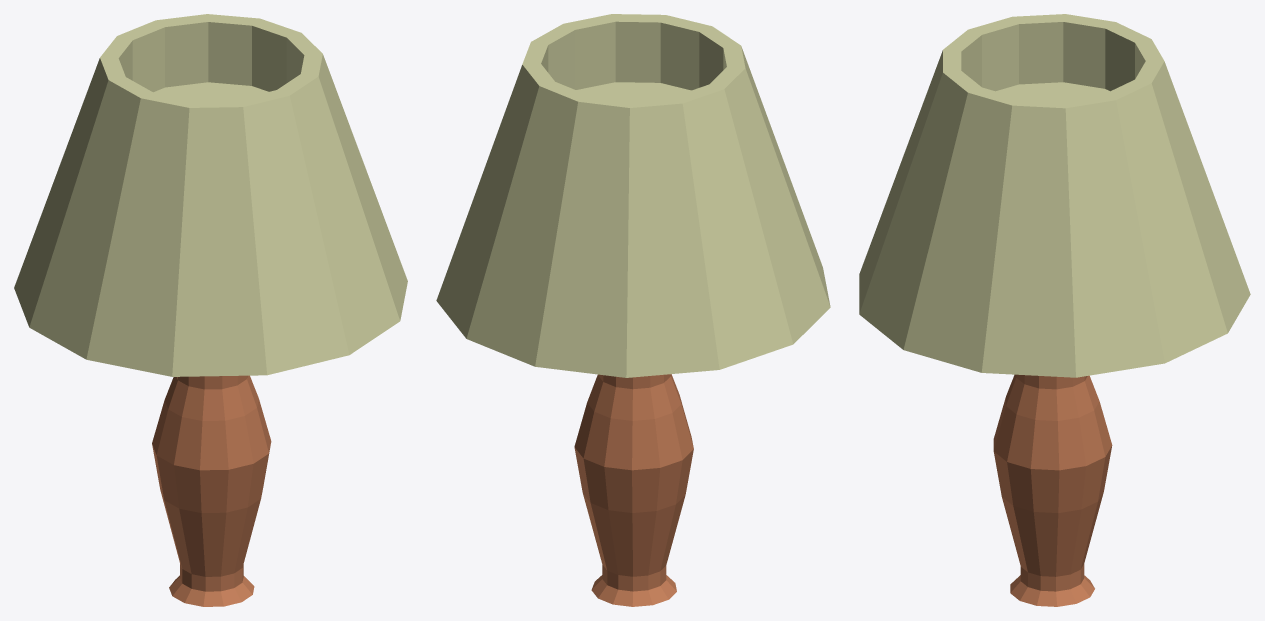
Rendered from lamp.fbx.
3 views of the same model, side by side, from view 1: azimuth 30°, elevation 25°; view 2: azimuth 150°, elevation 25°; view 3: azimuth 270°, elevation 25° (orthographic).
Parts seen in each view (by area): view 1: Cylinder.001, Cylinder; view 2: Cylinder.001, Cylinder; view 3: Cylinder.001, Cylinder.
Boxes of the visible parts, box(x1,y1,x2,y2) form: Cylinder.001: box(14, 14, 407, 376); Cylinder: box(152, 375, 271, 606); Cylinder.001: box(436, 14, 830, 377); Cylinder: box(574, 374, 693, 606); Cylinder.001: box(859, 14, 1250, 377); Cylinder: box(993, 374, 1112, 606).
Bounding box in the file's own units: 98.86 × 146 × 98.14.
